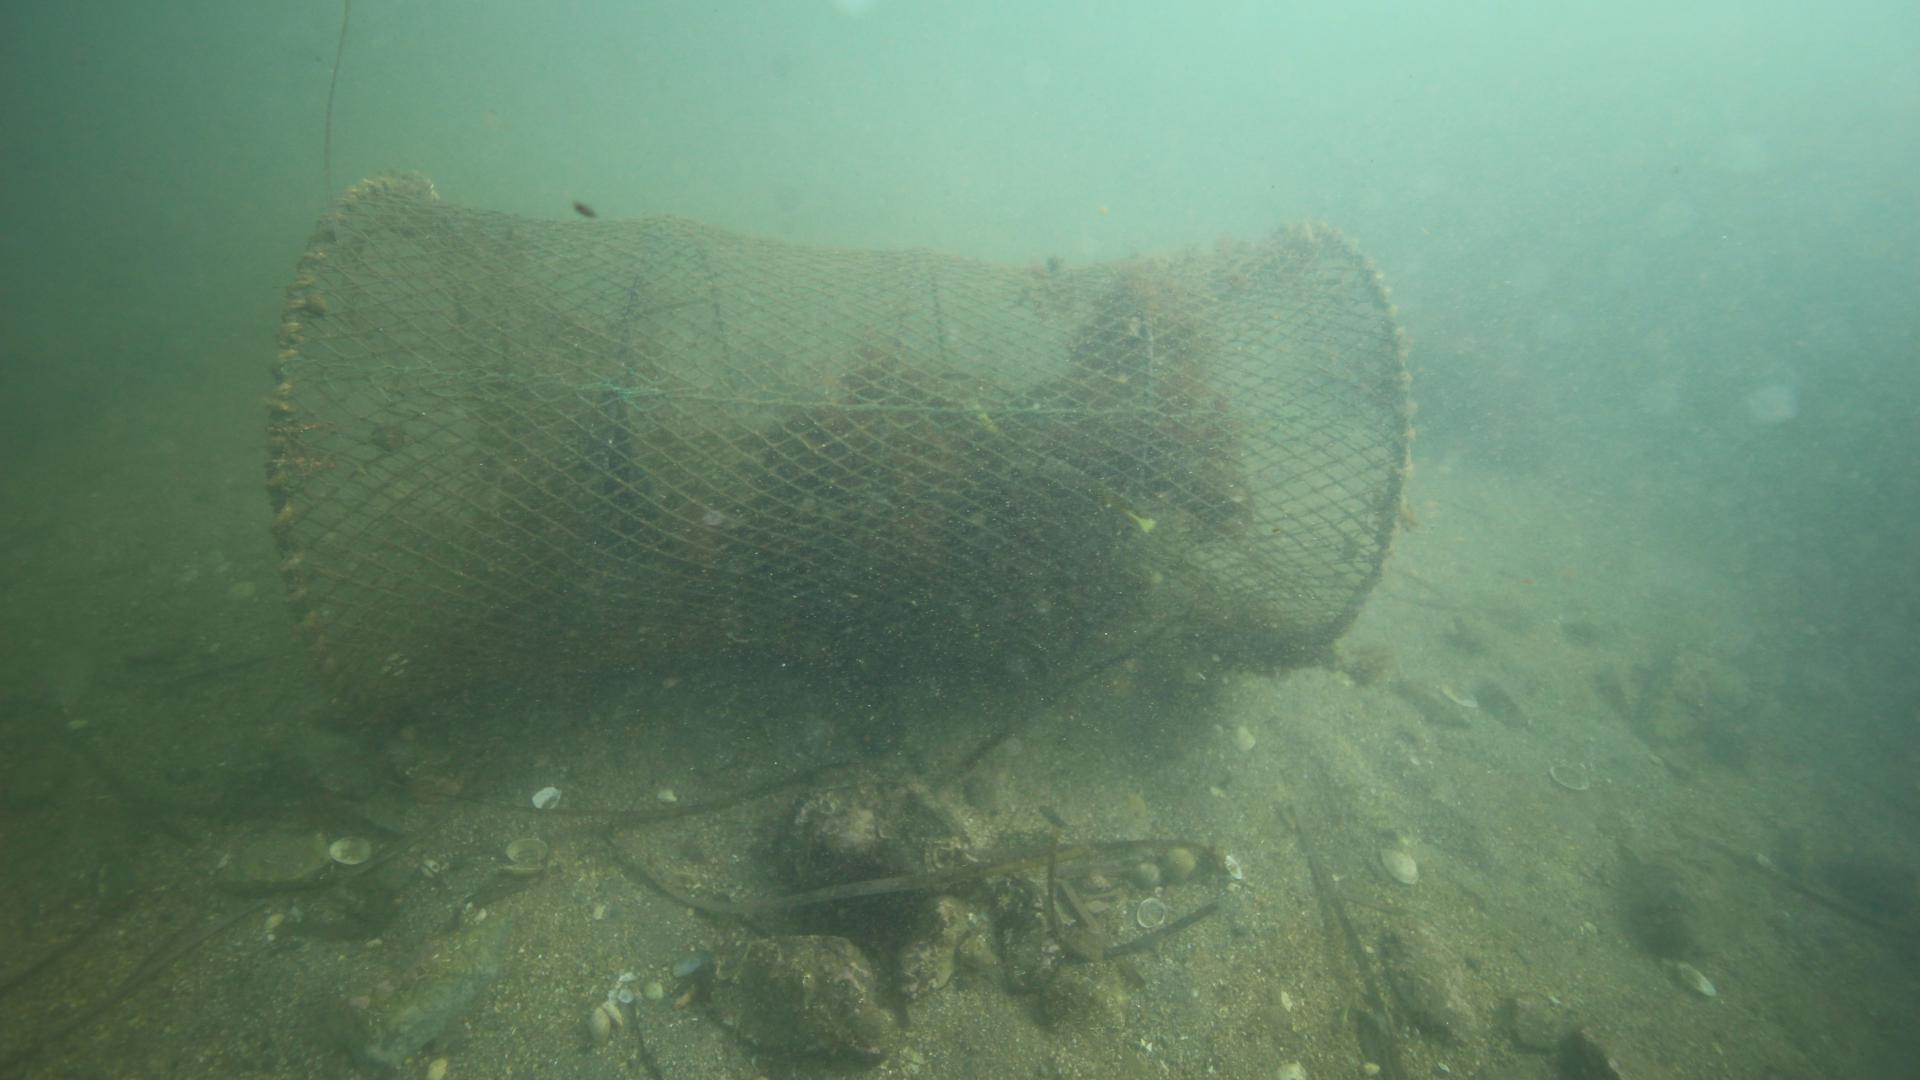spring fish trap: (264, 169, 1414, 731)
